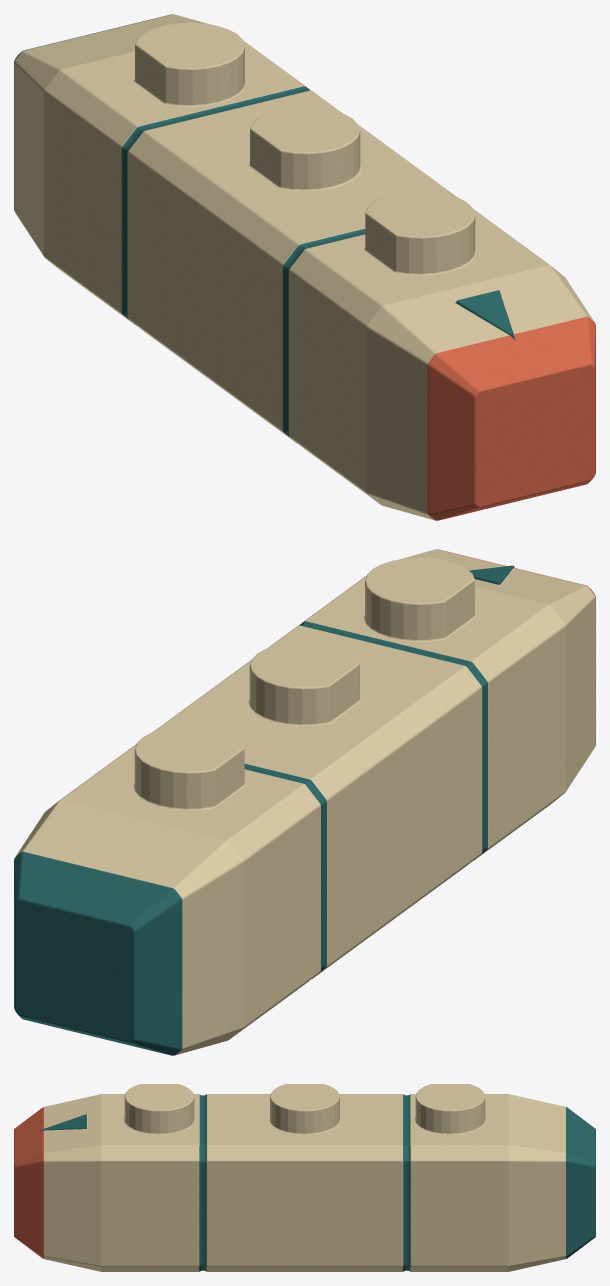
Rendered from pontoon-lod-0.glb.
3 renders of one model, top to bottom at view 1: azimuth 30°, elevation 25°; view 2: azimuth 150°, elevation 25°; view 3: azimuth 270°, elevation 25°, orthographic. The views are drawn at different scales.
Visible parts, largest first — view 1: pontoon_shell_lod0; view 2: pontoon_shell_lod0; view 3: pontoon_shell_lod0.
Part boxes in pixels (left/top/right/bottom): pontoon_shell_lod0: left=14, top=14, right=595, bottom=520; pontoon_shell_lod0: left=14, top=549, right=595, bottom=1055; pontoon_shell_lod0: left=14, top=1084, right=595, bottom=1271.
Bounding box in the file's own units: 1 × 1.14 × 4.
Materials: 1 (1 with a texture image).
